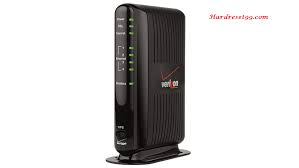Verizon Router: (102, 1, 203, 166)
